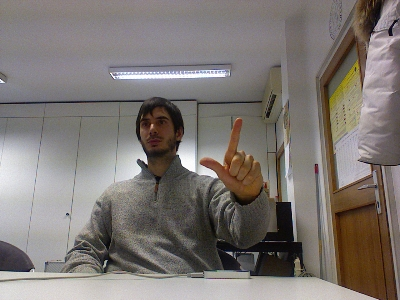枪: (197, 114, 264, 199)
